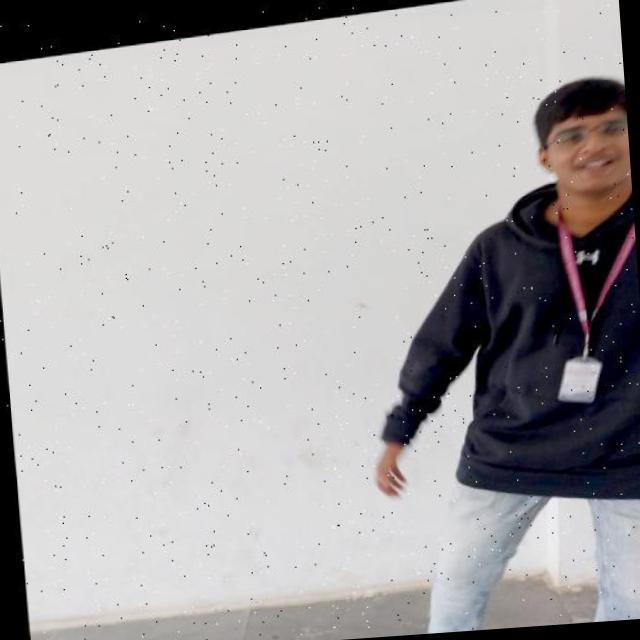id_card: (539, 186, 640, 408)
